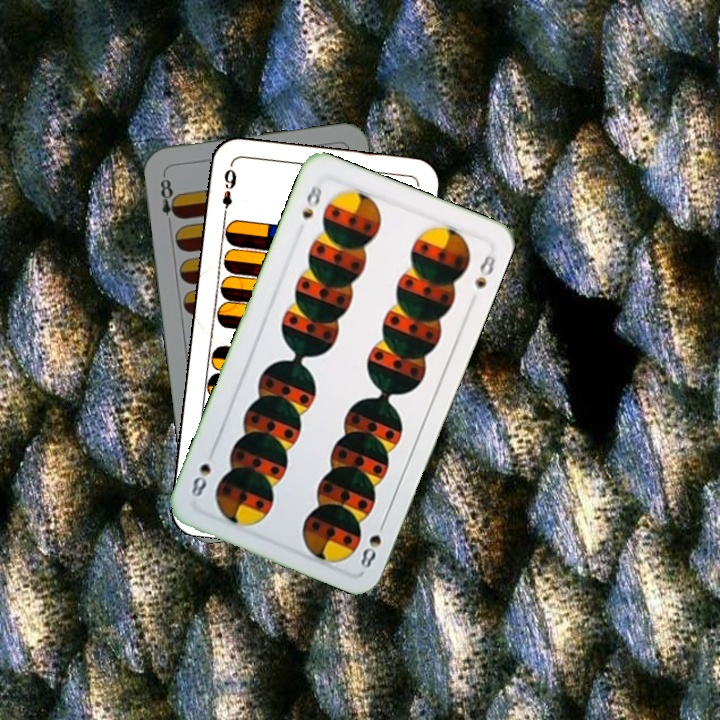E8: (156, 170, 182, 230)
E9: (218, 165, 240, 221)
S8: (356, 514, 390, 571), (297, 181, 325, 222)
